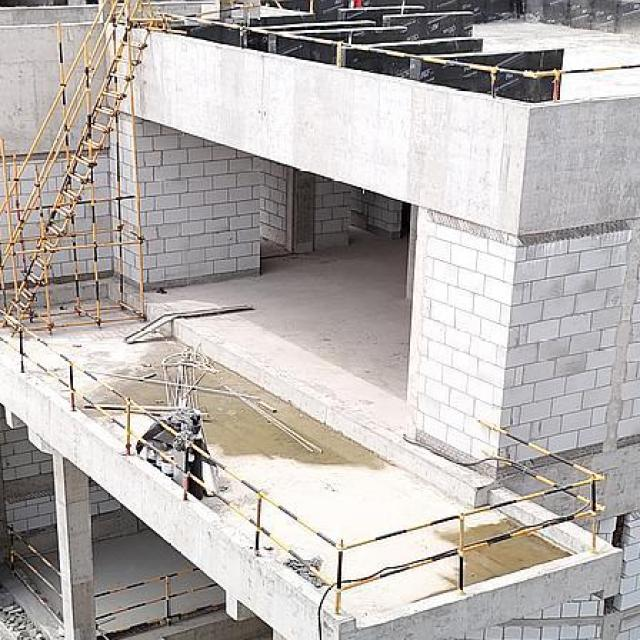edge_guardrail: (0, 309, 607, 615), (165, 4, 640, 102), (94, 566, 219, 621), (2, 523, 64, 626)
